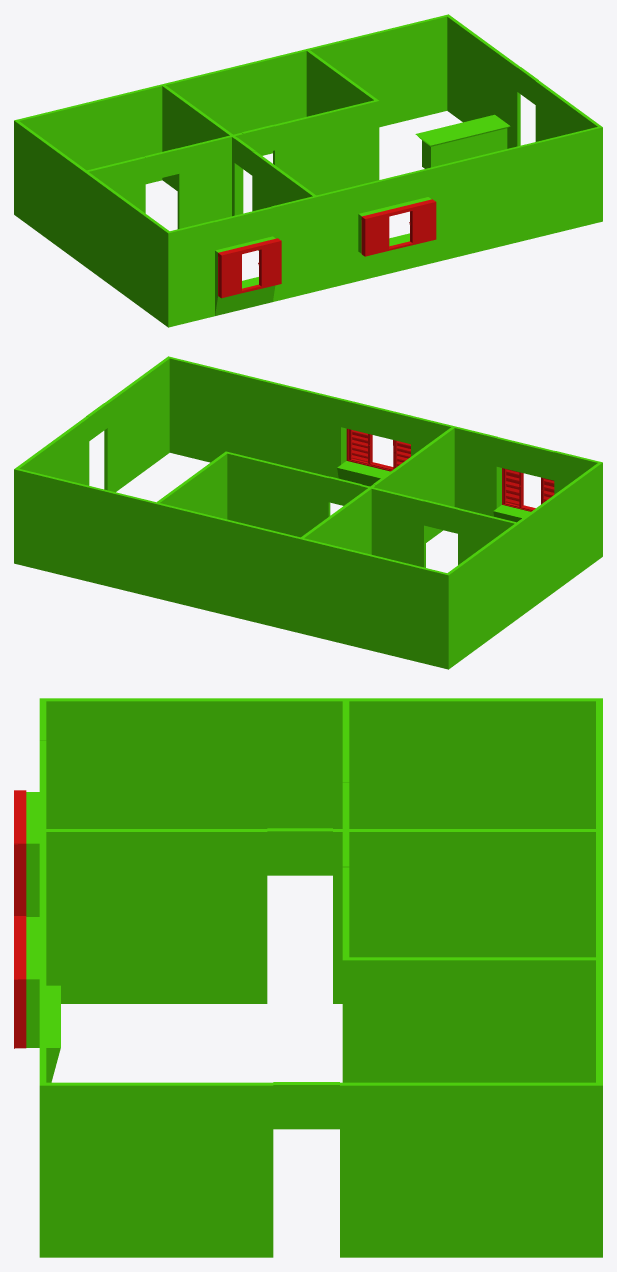
Rendered from casafinal.fbx.
3 views of the same model, one above another, from view 1: azimuth 30°, elevation 25°; view 2: azimuth 150°, elevation 25°; view 3: azimuth 270°, elevation 25° (orthographic). The views are drawn at different scales.
Parts seen in each view (by area): view 1: Plane; view 2: Plane; view 3: Plane.
Part boxes in pixels (bbox=[...]): Plane: bbox=[14, 14, 602, 327]; Plane: bbox=[14, 356, 602, 669]; Plane: bbox=[14, 698, 602, 1257].
Bounding box in the file's own units: 337 × 70 × 217.
